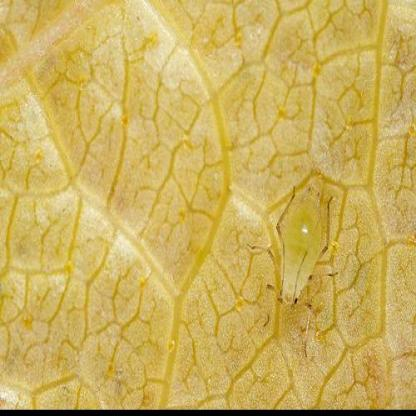aphid: (246, 164, 336, 348)
